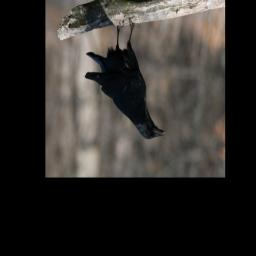Crow: (85, 16, 166, 142)
